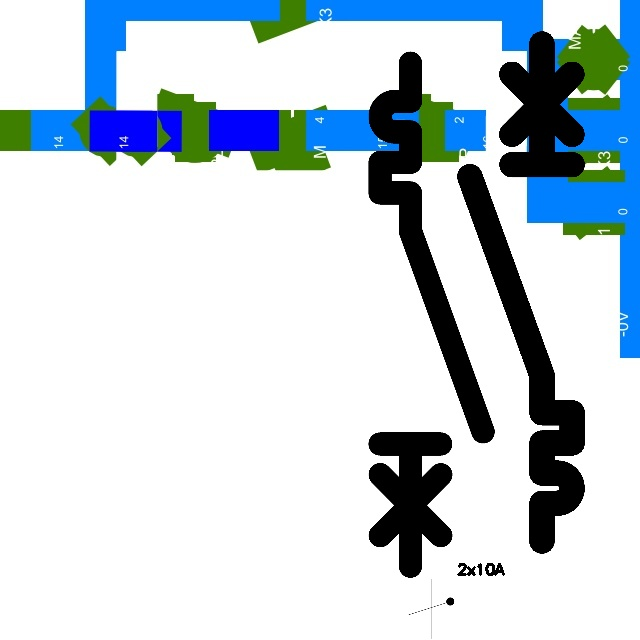interruptor_termomagnetico: (367, 50, 496, 579), (457, 31, 585, 554)
